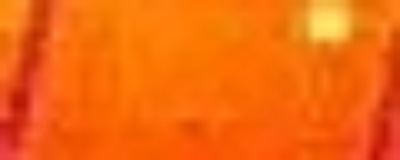Hotspot: (306, 1, 357, 43)
